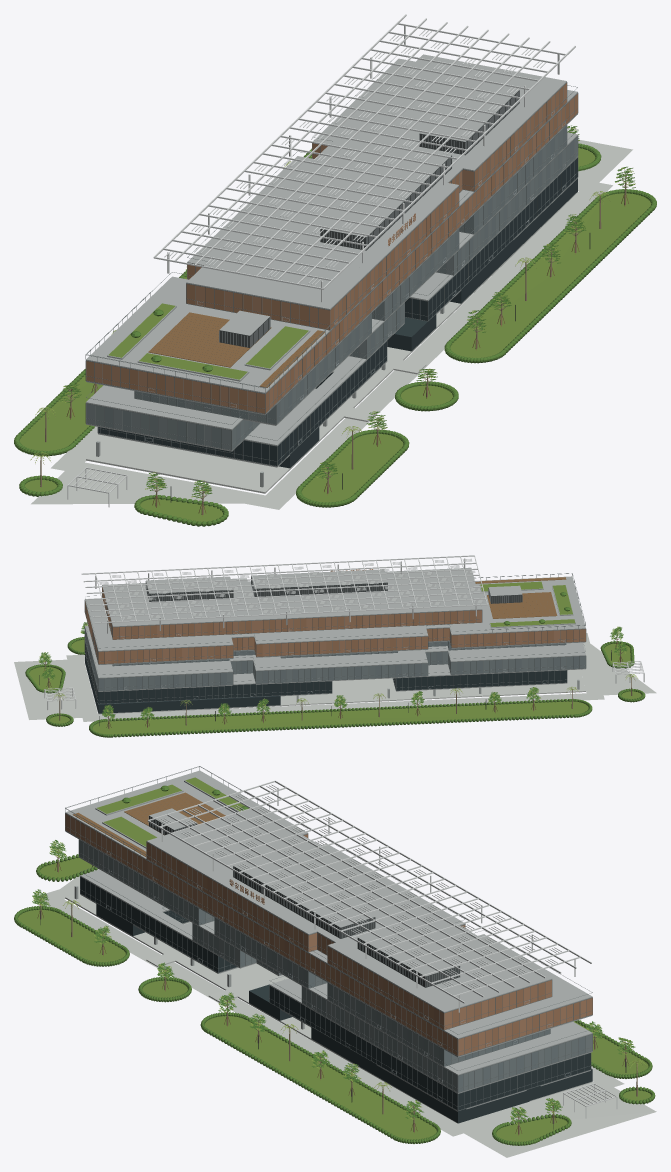
The model's file is incubator-lod1.glb.
3 views of the same model, one above another, from view 1: azimuth 30°, elevation 25°; view 2: azimuth 150°, elevation 25°; view 3: azimuth 270°, elevation 25° (orthographic). The views are drawn at different scales.
Parts seen in each view (by area): view 1: separate floor plates and setback terraces | roof.001, white open rooftop framework | ivory metal.001, connected planted lawns | lawn.001, slender curtain wall mullions | rail.001, site perimeter paving | pale paving.001, lower dark glazing | dark glass.001, continuous low hedges | hedge.001, open stilt floor paving | pale paving.001, upper bronze reflective panels | bronze glass 2.001, upper bronze reflective panels | bronze glass 0.001, upper bronze reflective panels | bronze glass 1.001, middle silver glazing | silver glass 0.001 (+12 smaller); view 2: separate floor plates and setback terraces | roof.001, white open rooftop framework | ivory metal.001, slender curtain wall mullions | rail.001, connected planted lawns | lawn.001, lower dark glazing | dark glass.001, continuous low hedges | hedge.001, site perimeter paving | pale paving.001, open stilt floor paving | pale paving.001, upper bronze reflective panels | bronze glass 2.001, upper bronze reflective panels | bronze glass 1.001, upper bronze reflective panels | bronze glass 0.001, internal drive and court paving | pale paving.001 (+12 smaller); view 3: separate floor plates and setback terraces | roof.001, white open rooftop framework | ivory metal.001, slender curtain wall mullions | rail.001, connected planted lawns | lawn.001, lower dark glazing | dark glass.001, site perimeter paving | pale paving.001, continuous low hedges | hedge.001, upper bronze reflective panels | bronze glass 2.001, upper bronze reflective panels | bronze glass 1.001, upper bronze reflective panels | bronze glass 0.001, middle silver glazing | silver glass 0.001, middle silver glazing | silver glass 2.001 (+12 smaller).
Part boxes in pixels (left/top/right/bottom): separate floor plates and setback terraces | roof.001: left=86, top=54, right=577, bottom=467; white open rooftop framework | ivory metal.001: left=67, top=14, right=575, bottom=507; connected planted lawns | lawn.001: left=19, top=148, right=651, bottom=522; slender curtain wall mullions | rail.001: left=85, top=82, right=578, bottom=466; site perimeter paving | pale paving.001: left=51, top=179, right=612, bottom=509; lower dark glazing | dark glass.001: left=98, top=158, right=577, bottom=468; continuous low hedges | hedge.001: left=14, top=143, right=656, bottom=526; open stilt floor paving | pale paving.001: left=86, top=192, right=577, bottom=493; upper bronze reflective panels | bronze glass 2.001: left=94, top=83, right=573, bottom=411; upper bronze reflective panels | bronze glass 0.001: left=86, top=87, right=569, bottom=412; upper bronze reflective panels | bronze glass 1.001: left=103, top=91, right=577, bottom=413; middle silver glazing | silver glass 0.001: left=104, top=126, right=573, bottom=448; separate floor plates and setback terraces | roof.001: left=85, top=567, right=585, bottom=696; white open rooftop framework | ivory metal.001: left=44, top=555, right=644, bottom=709; slender curtain wall mullions | rail.001: left=84, top=588, right=586, bottom=704; connected planted lawns | lawn.001: left=29, top=639, right=641, bottom=734; lower dark glazing | dark glass.001: left=85, top=642, right=566, bottom=713; continuous low hedges | hedge.001: left=25, top=636, right=645, bottom=737; site perimeter paving | pale paving.001: left=66, top=633, right=604, bottom=721; open stilt floor paving | pale paving.001: left=92, top=669, right=585, bottom=714; upper bronze reflective panels | bronze glass 2.001: left=85, top=587, right=579, bottom=663; upper bronze reflective panels | bronze glass 1.001: left=85, top=595, right=585, bottom=663; upper bronze reflective panels | bronze glass 0.001: left=86, top=590, right=572, bottom=664; internal drive and court paving | pale paving.001: left=14, top=644, right=656, bottom=719; separate floor plates and setback terraces | roof.001: left=65, top=770, right=592, bottom=1111; white open rooftop framework | ivory metal.001: left=147, top=780, right=617, bottom=1118; slender curtain wall mullions | rail.001: left=65, top=813, right=592, bottom=1110; connected planted lawns | lawn.001: left=18, top=858, right=651, bottom=1142; lower dark glazing | dark glass.001: left=80, top=877, right=592, bottom=1123; site perimeter paving | pale paving.001: left=33, top=883, right=624, bottom=1136; continuous low hedges | hedge.001: left=14, top=854, right=655, bottom=1145; upper bronze reflective panels | bronze glass 2.001: left=70, top=817, right=586, bottom=1055; upper bronze reflective panels | bronze glass 1.001: left=75, top=820, right=592, bottom=1055; upper bronze reflective panels | bronze glass 0.001: left=65, top=814, right=579, bottom=1051; middle silver glazing | silver glass 0.001: left=79, top=840, right=585, bottom=1092; middle silver glazing | silver glass 2.001: left=84, top=843, right=592, bottom=1091.
Size of the model in its own units: 167 by 29.13 by 135.
